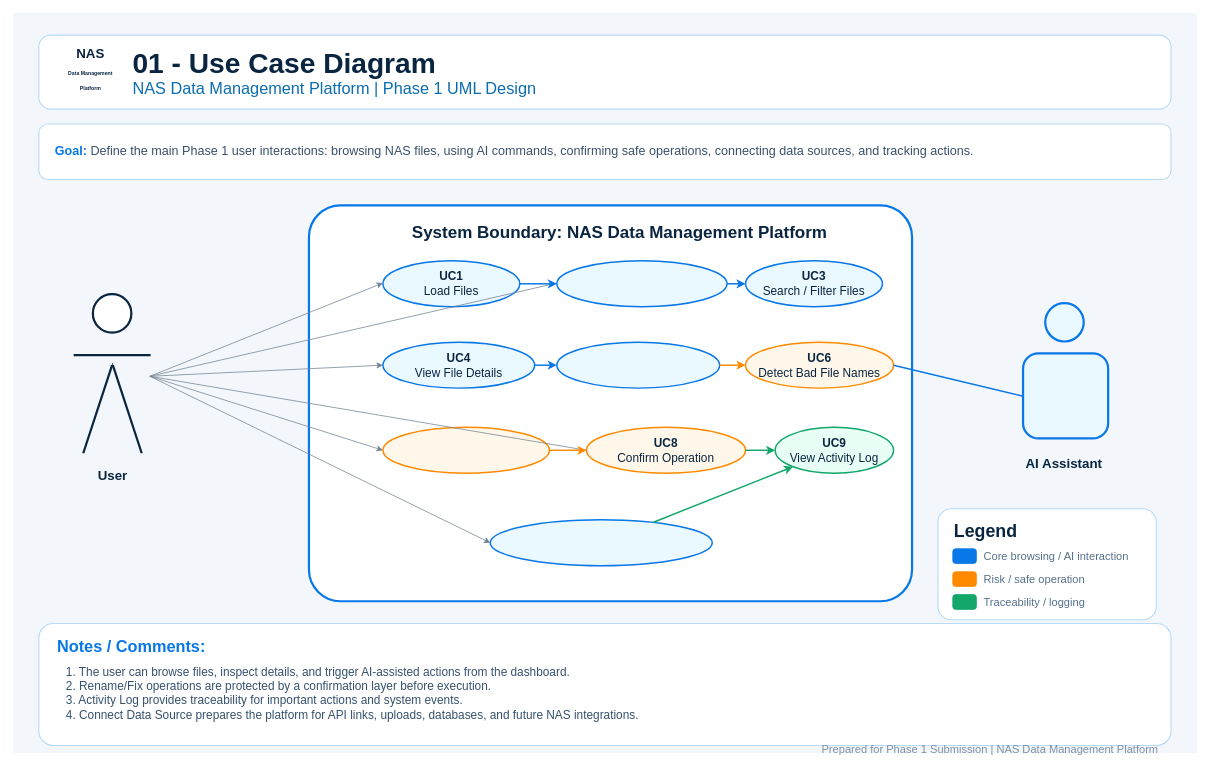
This 1209x769 diagram has some shape labels left out. Each missing label, with the box of its shape:
UC10 Connect Data Source: (489, 519, 713, 566)
UC2 View File Explorer: (556, 260, 727, 307)
UC5 Ask AI Assistant: (556, 341, 720, 388)
UC7 Rename / Fix Bad Names: (382, 426, 550, 474)
